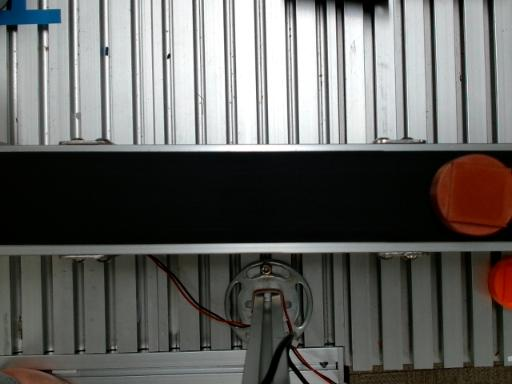Brown_Waper: (430, 154, 511, 236)
Square: (447, 161, 510, 227)
